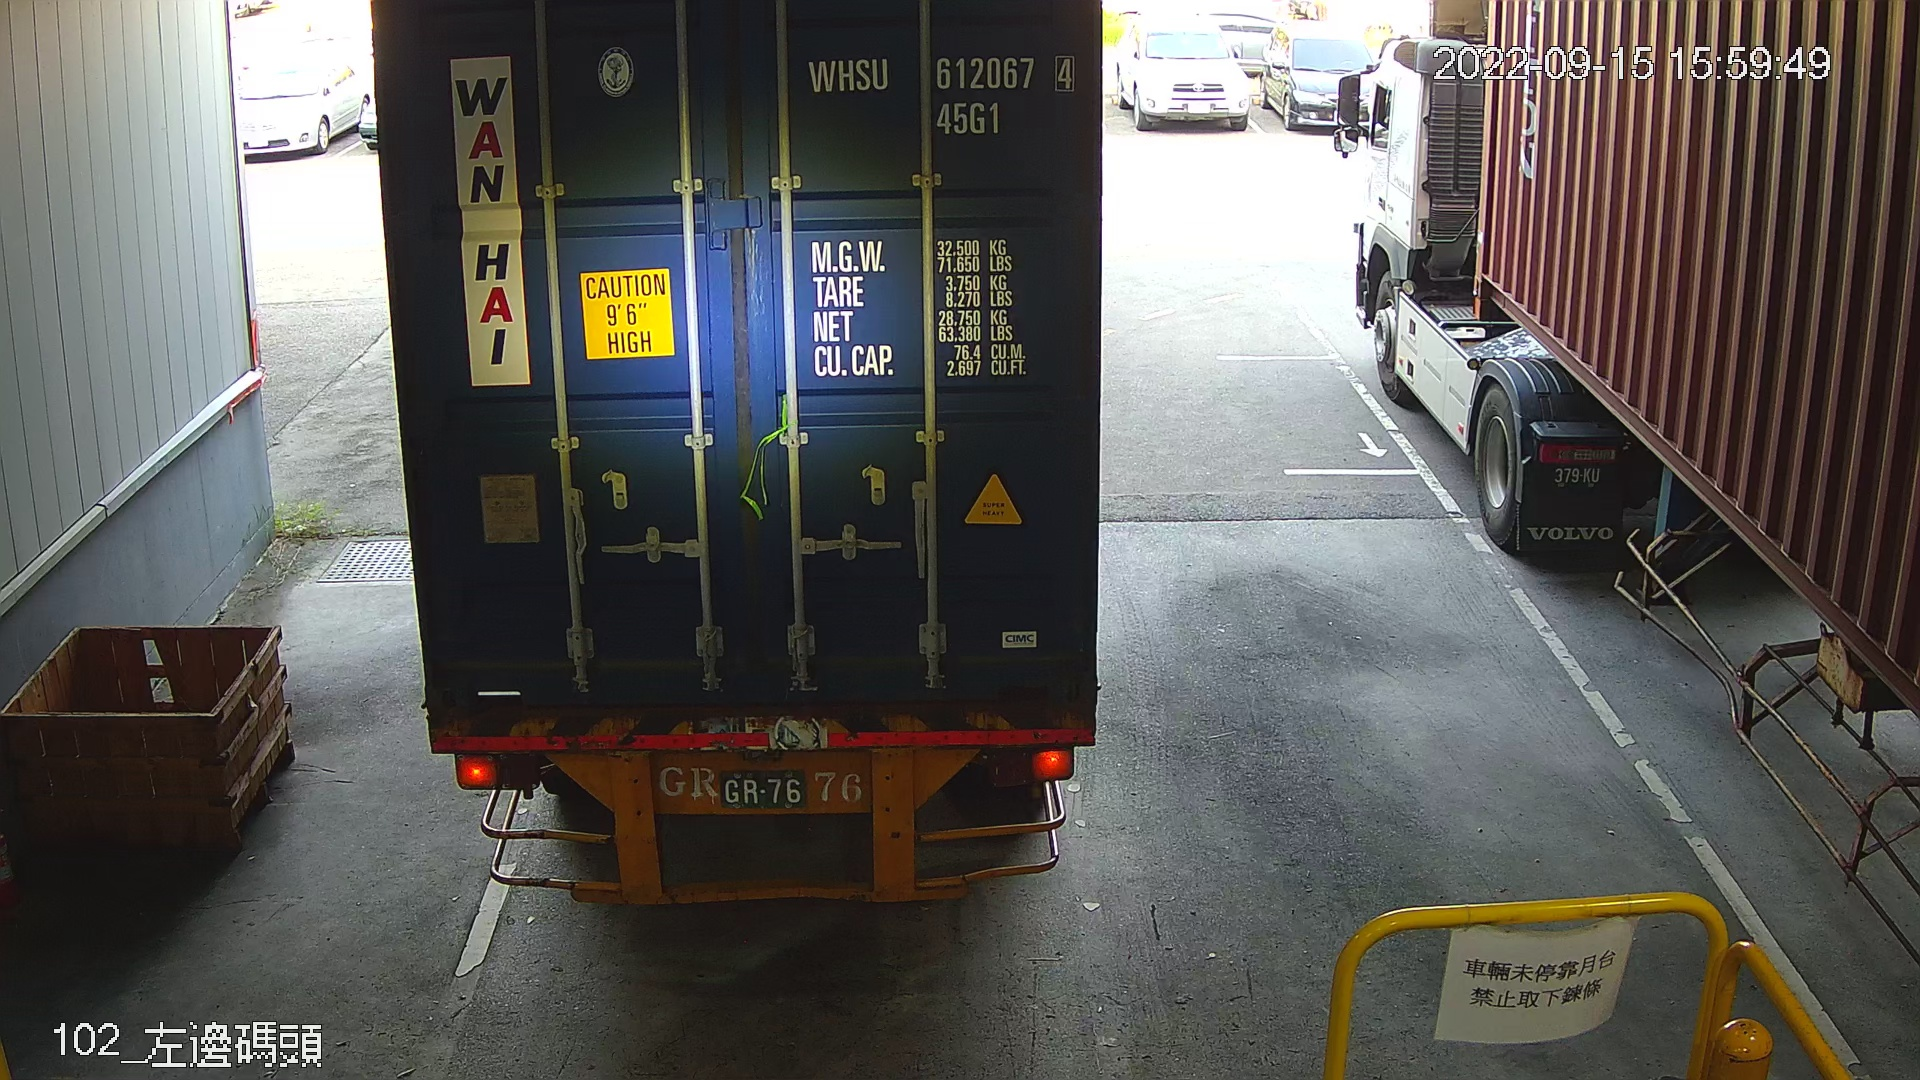container: (796, 44, 1087, 145)
